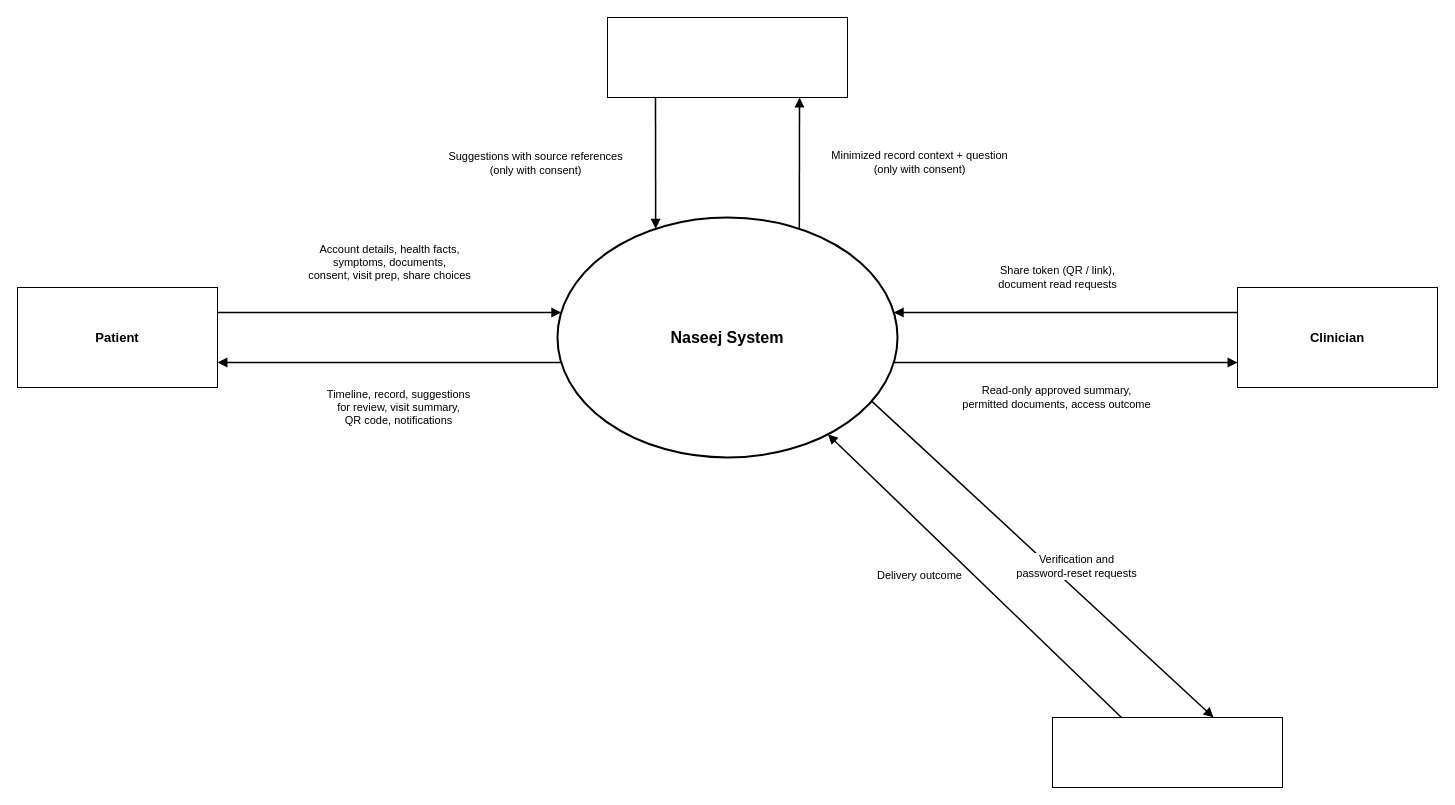
The diagram is 1455 pixels wide and 805 high, and some of its shapes have lost their labels. The centre of each missing label's shape, as x and y in pixels:
"Email Service" belongs at [1167,752].
"Optional AI Provider" belongs at [727,57].
